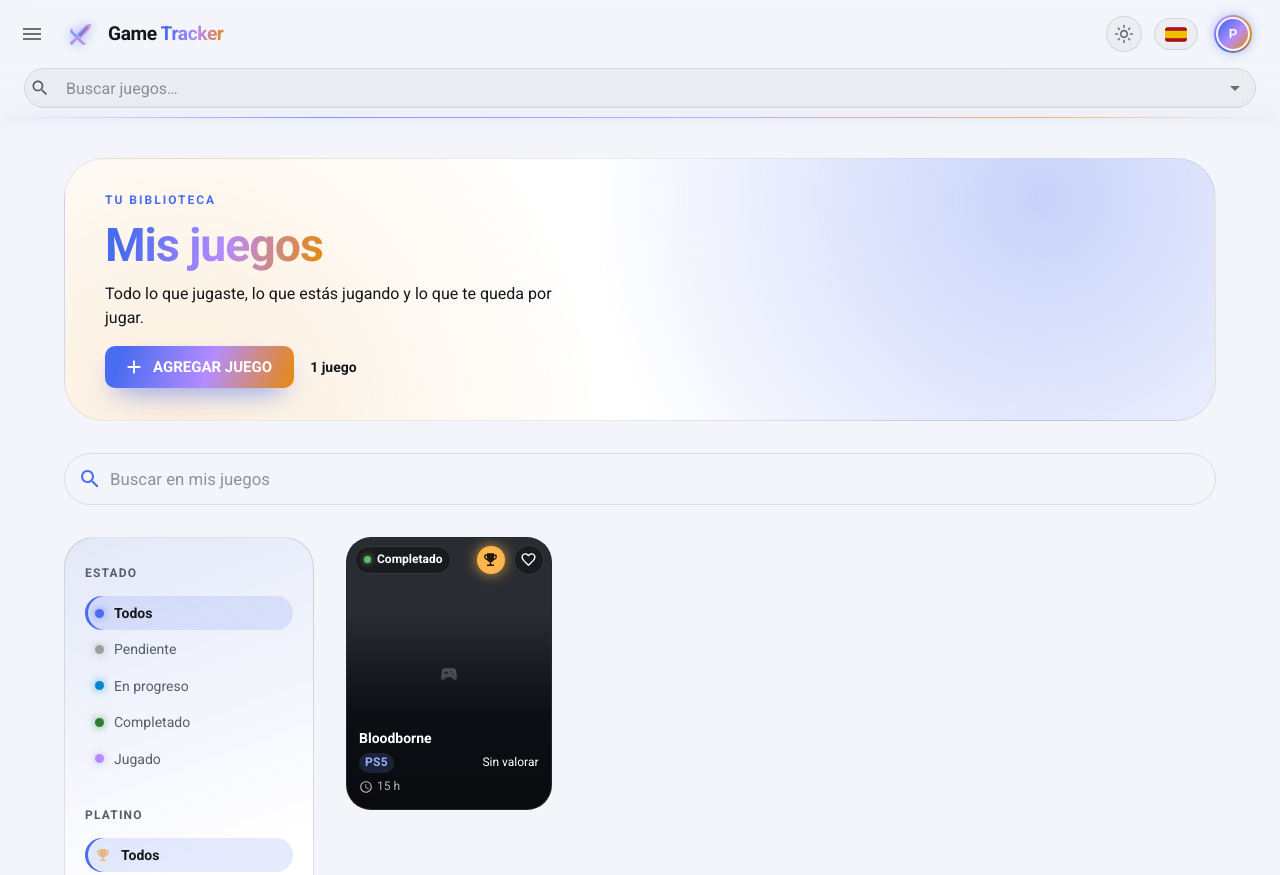
Test case: library list › explains the limit when there are already 5 favorites
The width and height of the screenshot is (1280, 875).
Click the button named "Marcar Bloodborne como favorito": click(528, 560) [514,545,544,575]
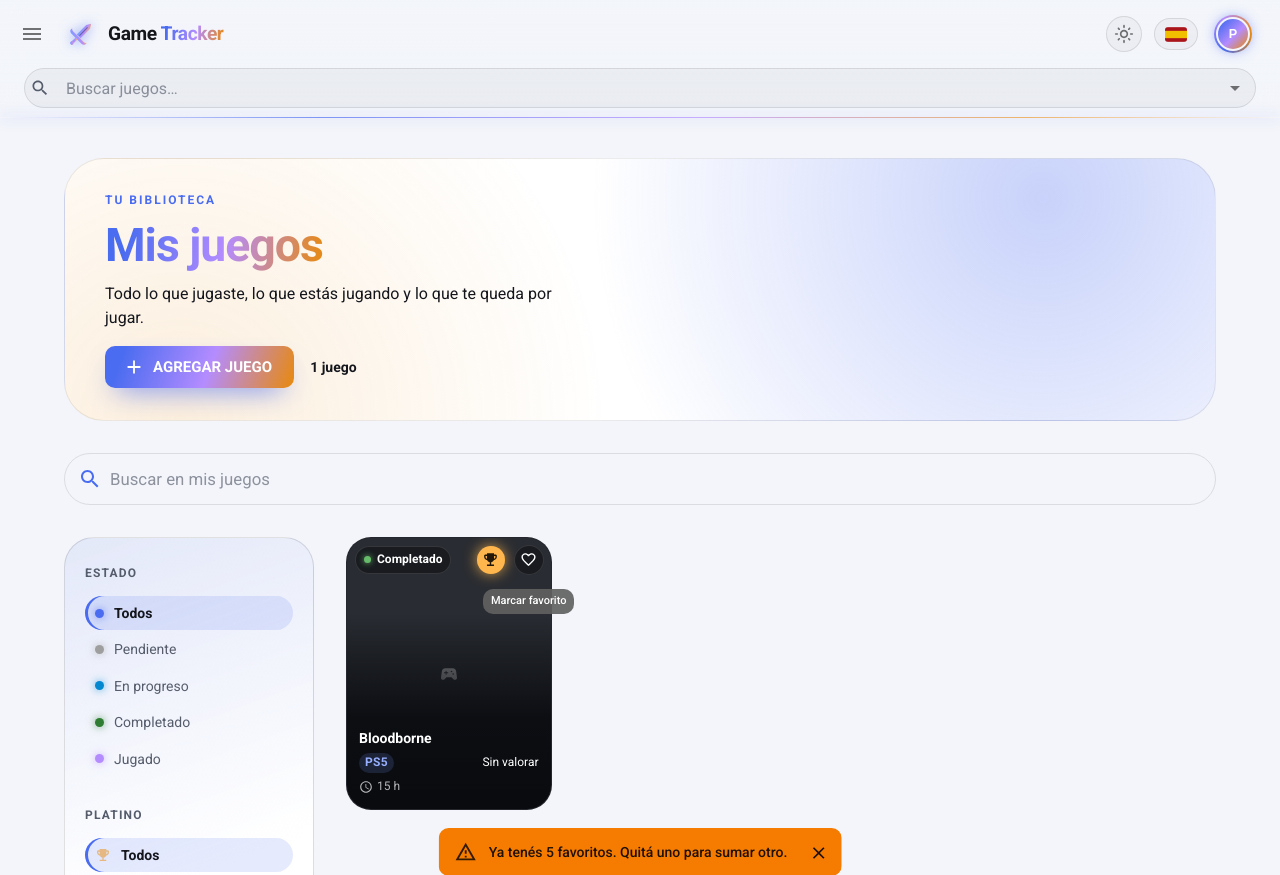
Check: the text "Ya tenés 5 favoritos. Quitá uno para sumar otro." is shown, box [489,844,787,860]
